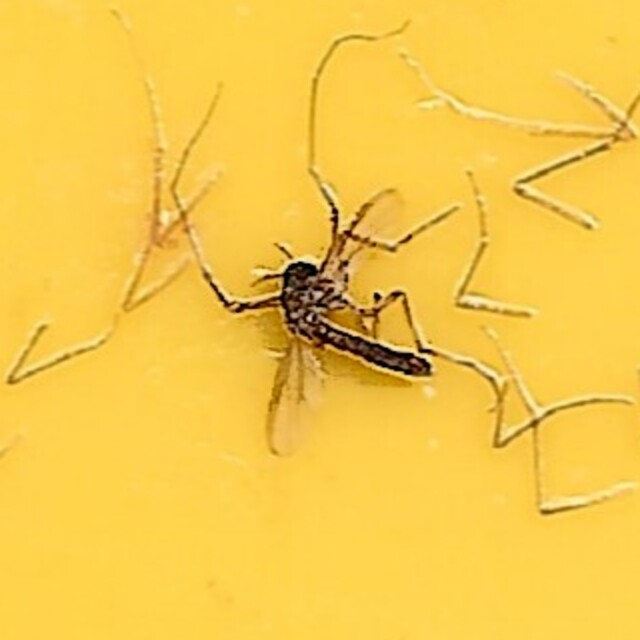Nematocera: (200, 183, 440, 457)
